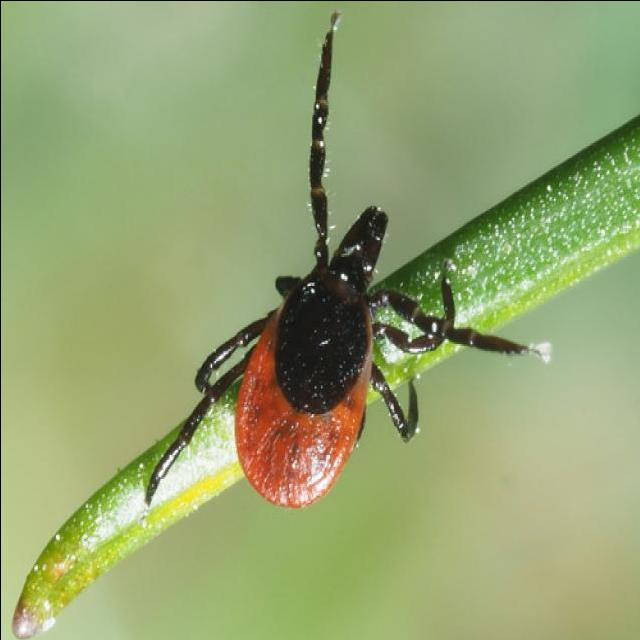Ixodes Ricinus-F: (141, 9, 549, 509)
